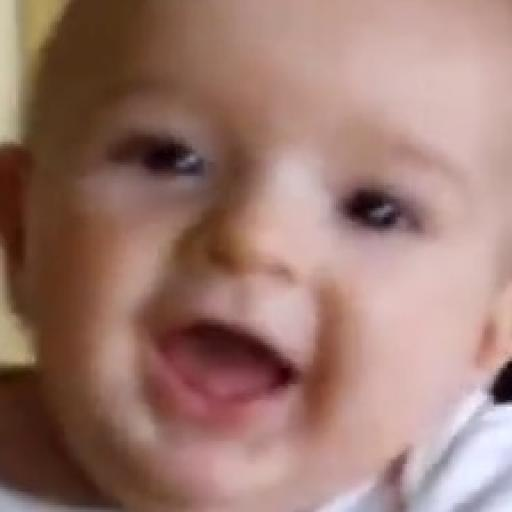Autism: (29, 4, 512, 480)
